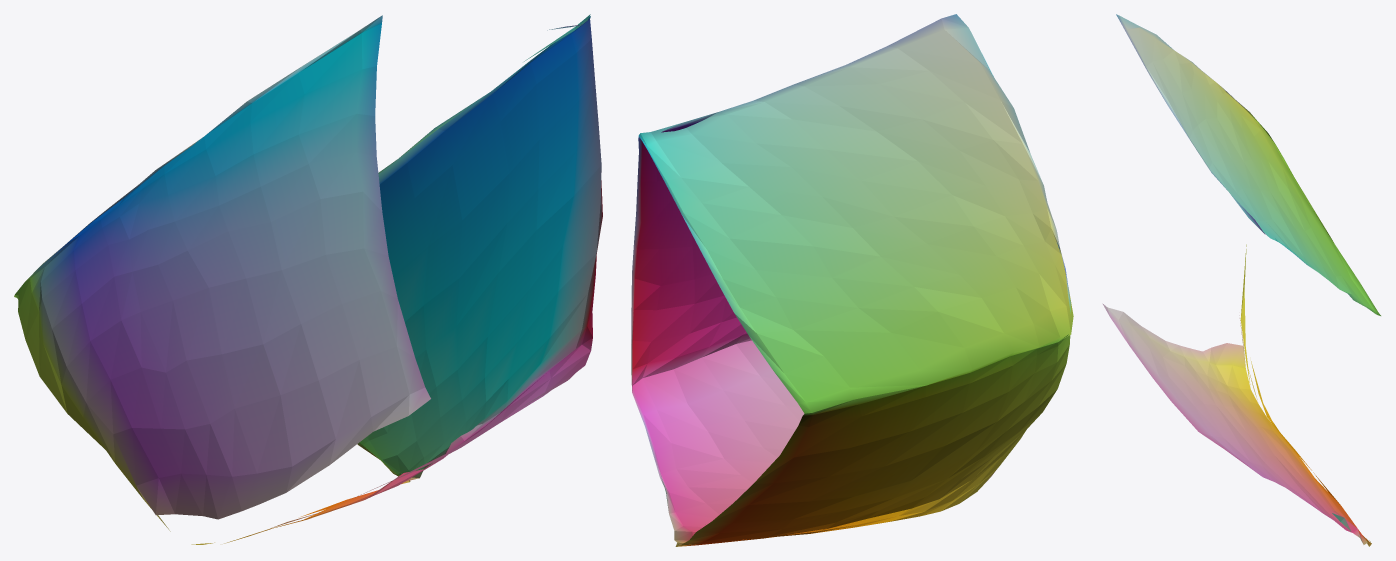
File: canon_in_abL output.glb
3 renders of one model, left to right at view 1: azimuth 30°, elevation 25°; view 2: azimuth 150°, elevation 25°; view 3: azimuth 270°, elevation 25°, orthographic. The views are drawn at different scales.
Parts seen in each view (by area): view 1: world; view 2: world; view 3: world.
Boxes of the visible parts, <box> form: world: <box>14,14,602,544</box>; world: <box>631,14,1073,546</box>; world: <box>1102,14,1380,546</box>.
Size of the model in its own units: 151 by 158 by 86.56.
